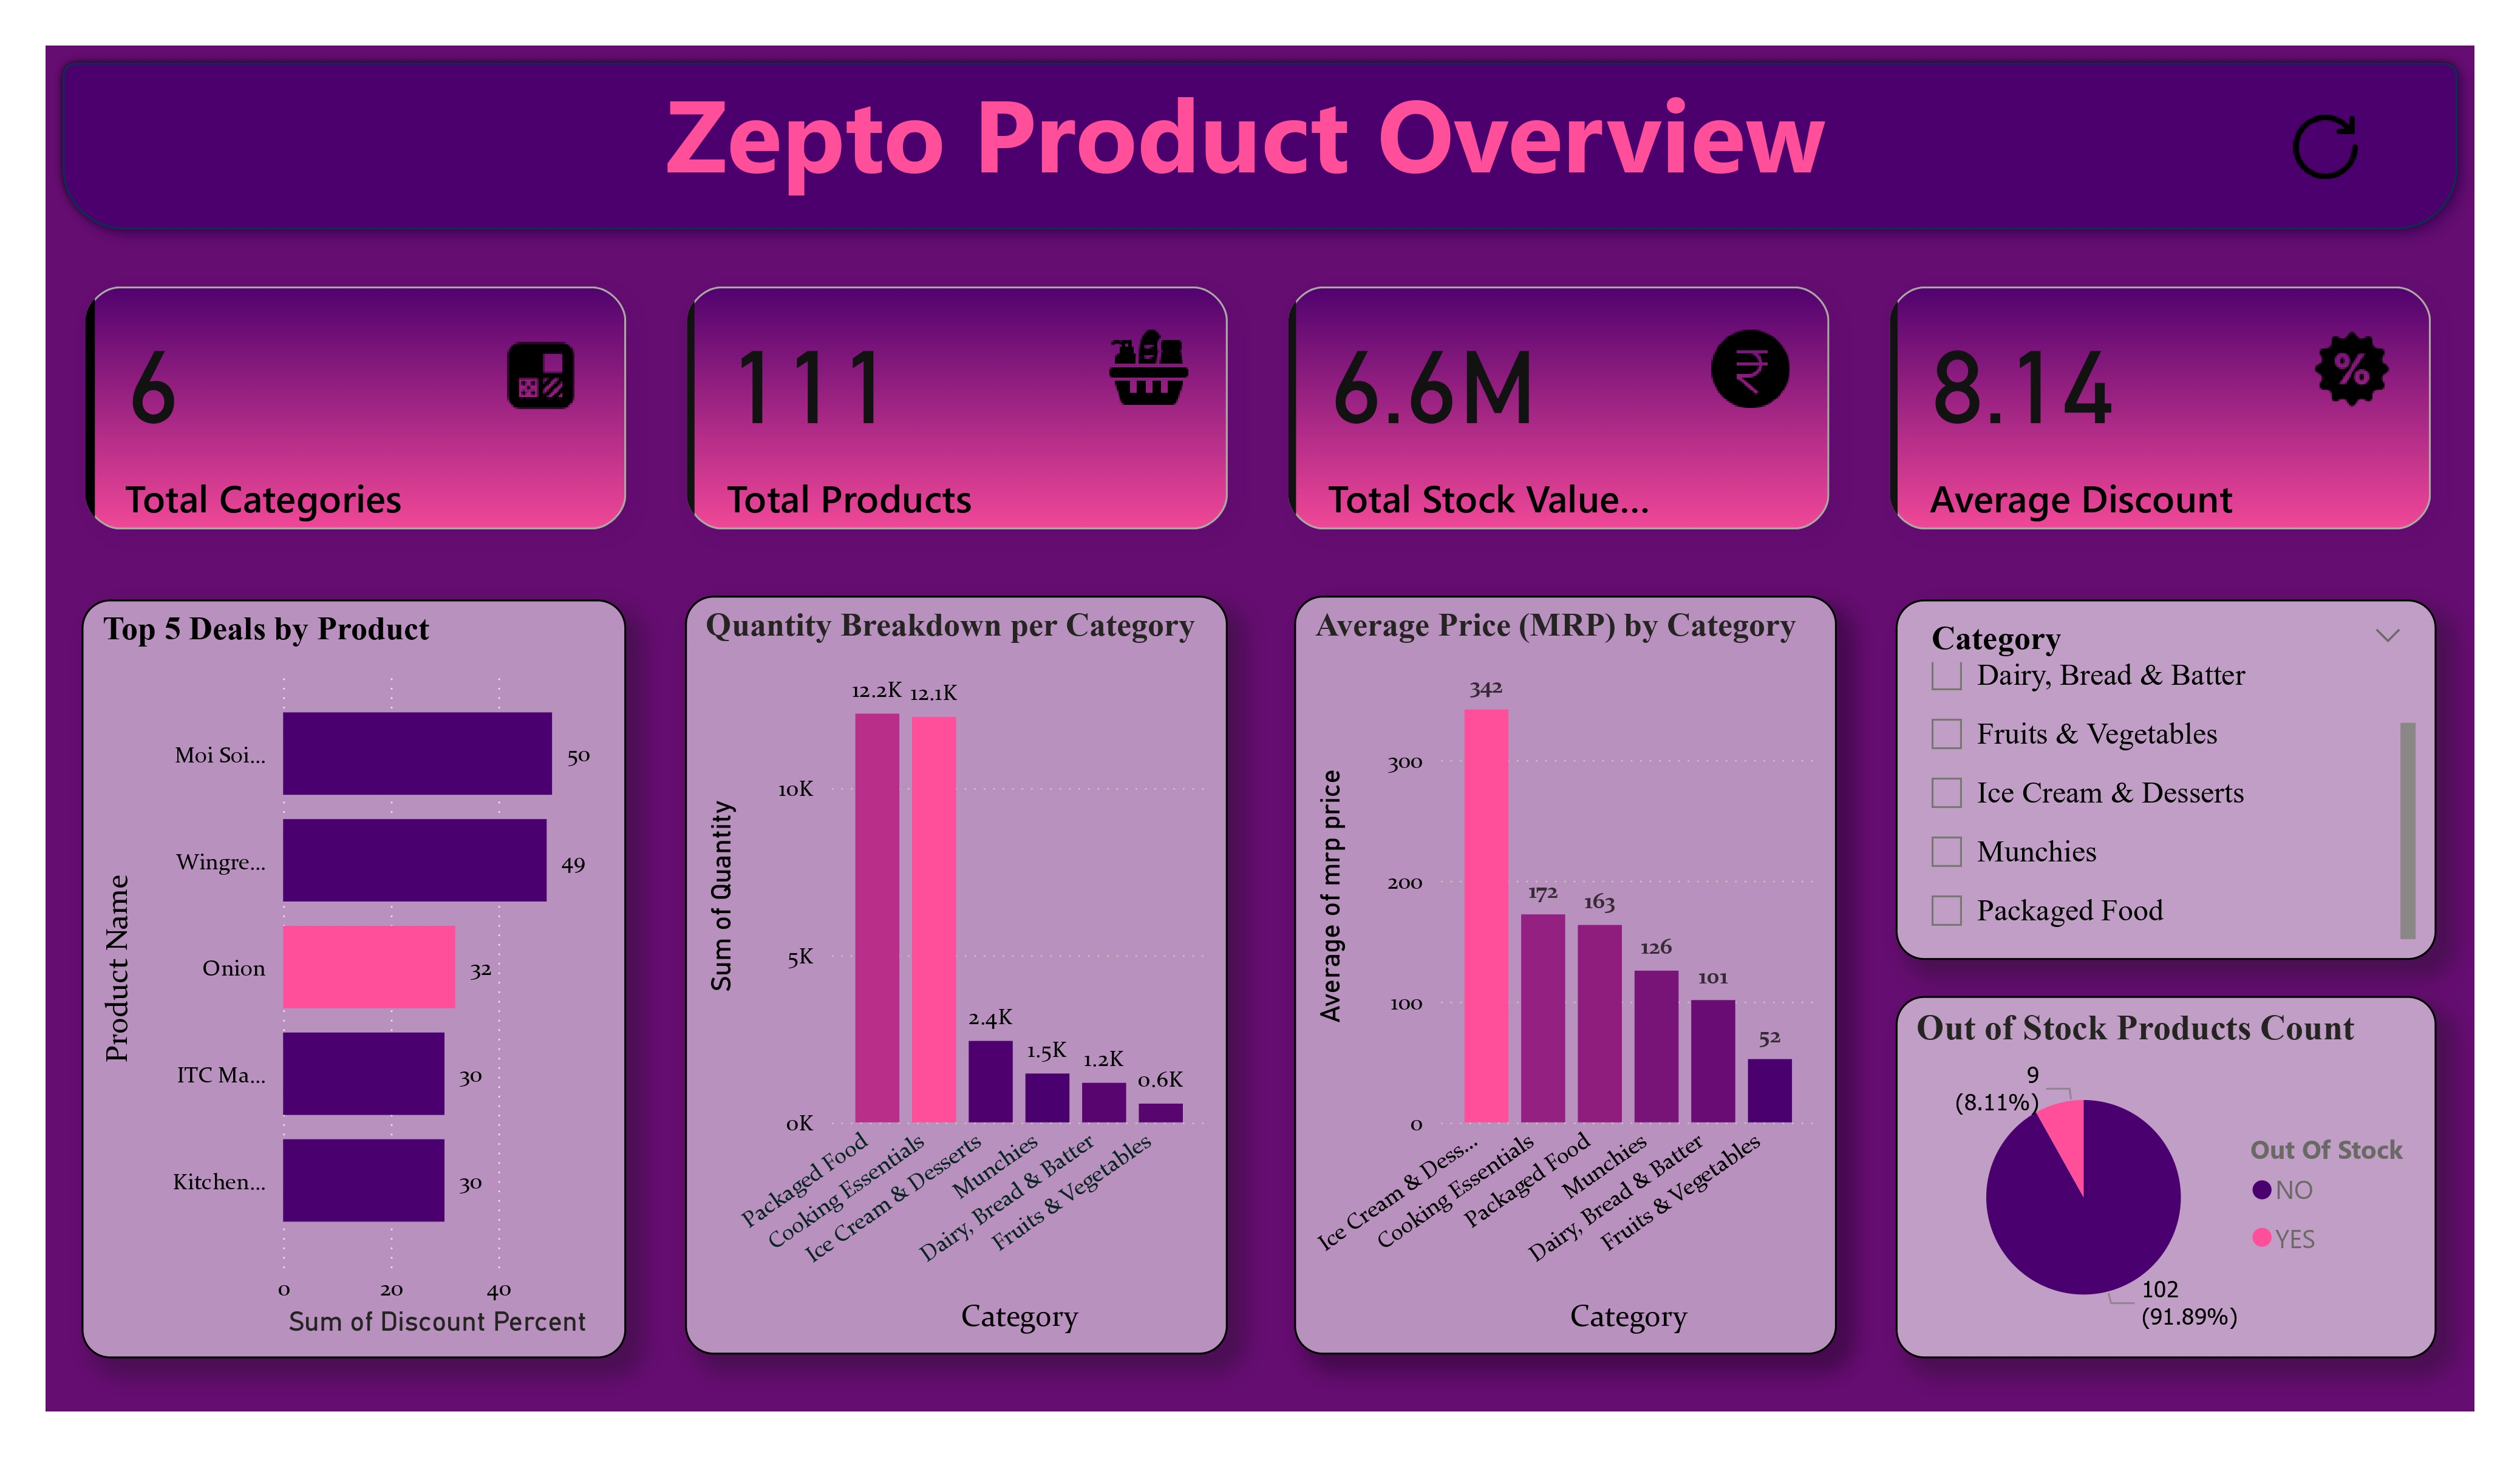

The dashboard page shown, as its layout file describes it:
{"tool":"powerbi","page":{"name":"Page 1","canvas":[1280,720],"ordinal":0},"visuals":[{"type":"shape","box":[0,0,1279.8,106],"z":0},{"type":"slicer","fields":{"Values":["products.Category"]},"box":[975,291.7,284.5,190.5],"z":1000},{"type":"cardVisual","fields":{"Data":["productssss.Total Categories","products.Total Products","products.Total Stock Value","products.Average Discount"]},"box":[0,106,1280,170.2],"z":2000},{"type":"clusteredBarChart","title":"Top 5 Deals by Product","fields":{"Category":["products.Name"],"Y":["Sum(products.Discount Percent)"]},"box":[19,291.7,286.9,400],"z":3000},{"type":"lineClusteredColumnComboChart","title":"Quantity Breakdown per Category","fields":{"Category":["products.Category"],"Y":["Sum(products.Quantity)"]},"box":[336.9,290.5,286,400],"z":4000},{"type":"clusteredColumnChart","title":"Average Price (MRP) by Category","fields":{"Y":["products.Average of mrp price"],"Category":["products.Category"]},"box":[658.3,290.5,285.7,400],"z":5000},{"type":"pieChart","title":"Out of Stock Products Count","fields":{"Y":["products.Total Products"],"Category":["products.Out Of Stock"]},"box":[975,501.2,284.5,190.5],"z":6000},{"type":"image","box":[1177.4,29.8,47.6,47.6],"z":7000}]}

Visuals, with their boxes in screenshot pixels (x1, y1, x2, y2):
shape: pyautogui.locateOnScreen(46, 46, 2474, 246)
slicer - products.Category: pyautogui.locateOnScreen(1896, 599, 2436, 960)
cardVisual - productssss.Total Categories x products.Total Products: pyautogui.locateOnScreen(46, 246, 2474, 569)
"Top 5 Deals by Product" clusteredBarChart: pyautogui.locateOnScreen(81, 599, 626, 1358)
"Quantity Breakdown per Category" lineClusteredColumnComboChart: pyautogui.locateOnScreen(685, 597, 1228, 1356)
"Average Price (MRP) by Category" clusteredColumnChart: pyautogui.locateOnScreen(1295, 597, 1837, 1356)
"Out of Stock Products Count" pieChart: pyautogui.locateOnScreen(1896, 996, 2436, 1358)
image: pyautogui.locateOnScreen(2280, 102, 2370, 192)
